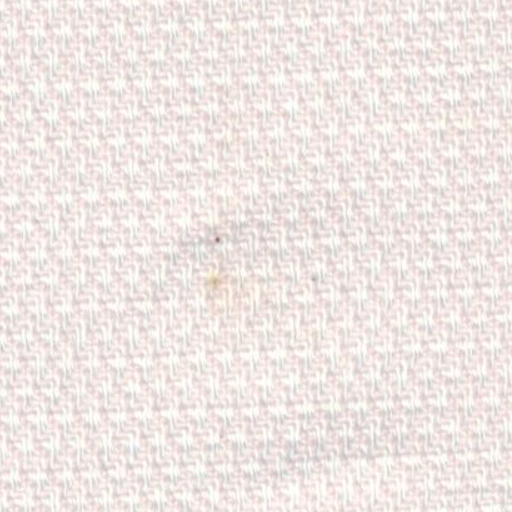WuZi: (168, 198, 284, 318)
